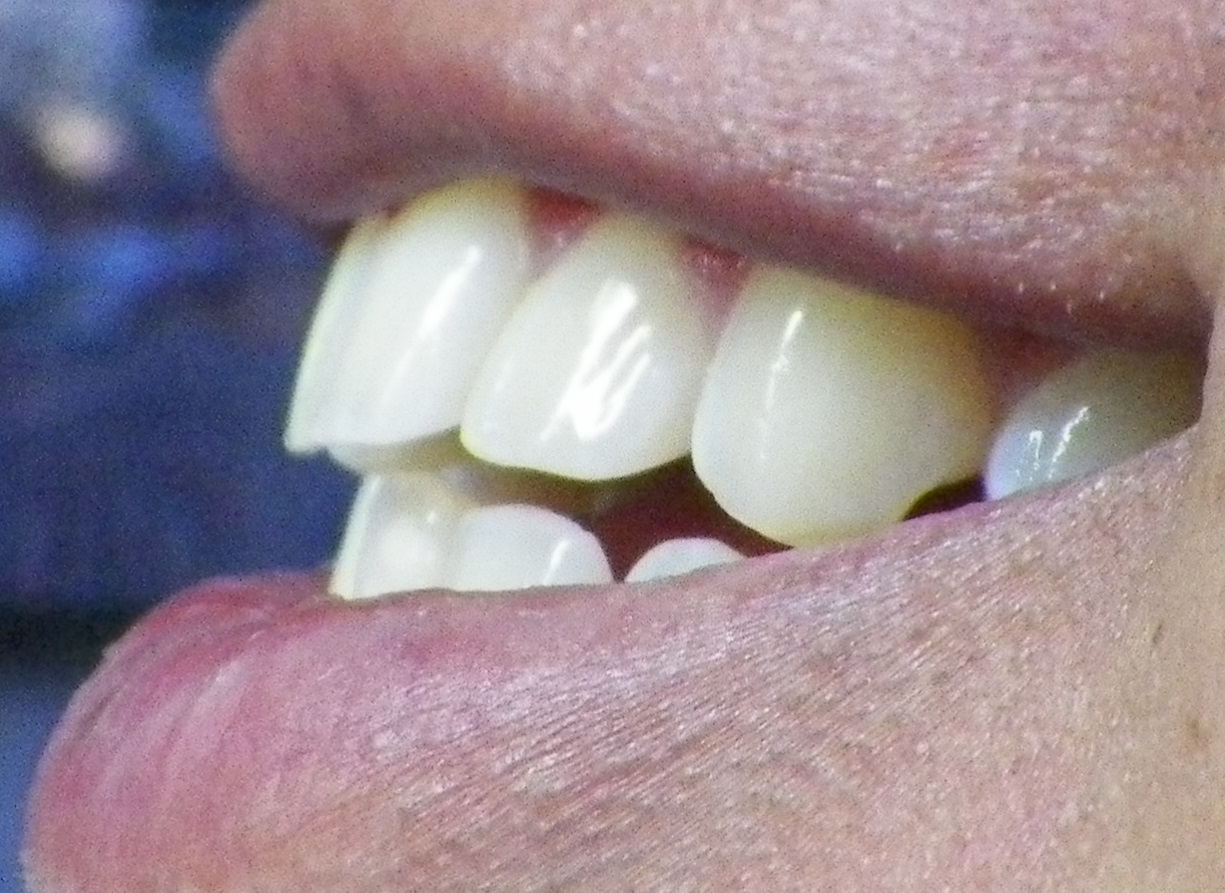boca: (288, 199, 1159, 604)
